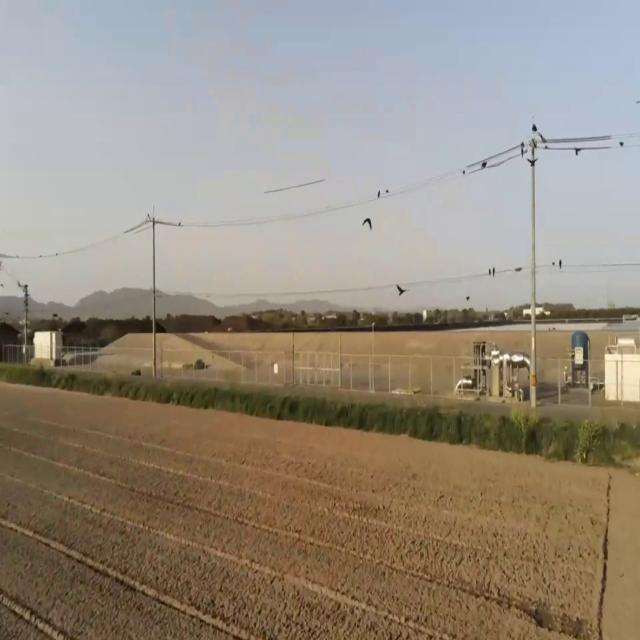bird: (362, 210, 372, 235), (396, 278, 406, 300), (531, 114, 537, 148), (574, 144, 580, 158), (619, 136, 624, 151), (462, 165, 465, 179), (492, 264, 495, 278), (489, 263, 492, 277)
